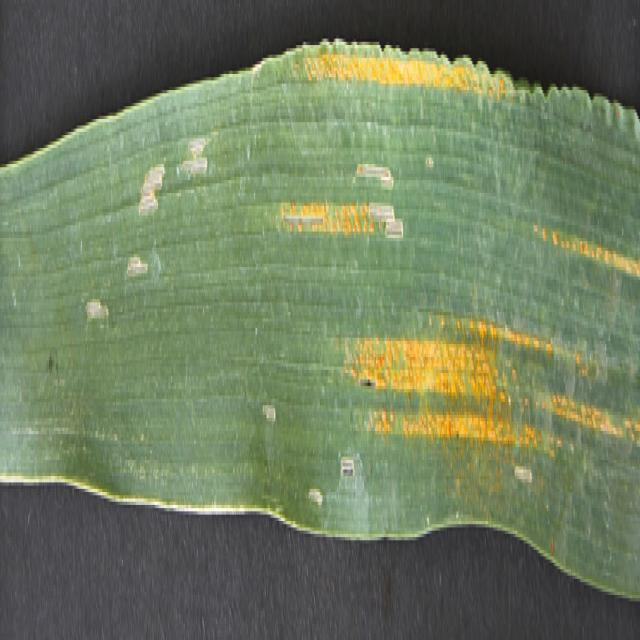leaf rust: (339, 270, 640, 499), (296, 13, 498, 135), (259, 158, 379, 257)
